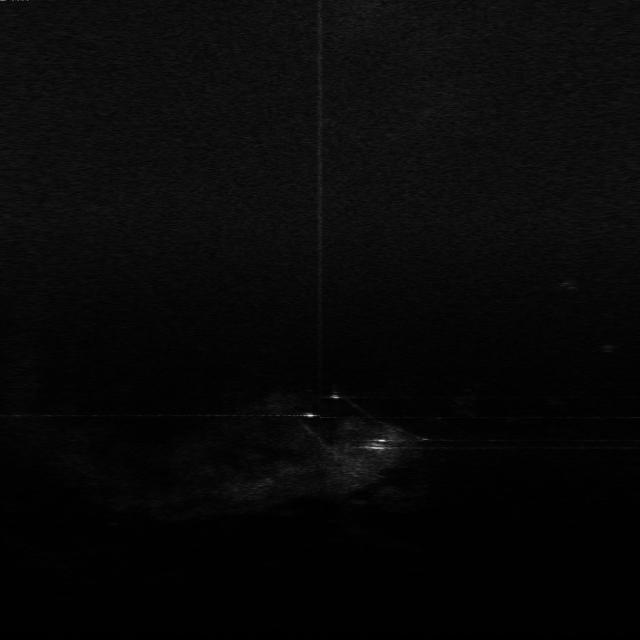rov: (362, 436, 392, 452)
